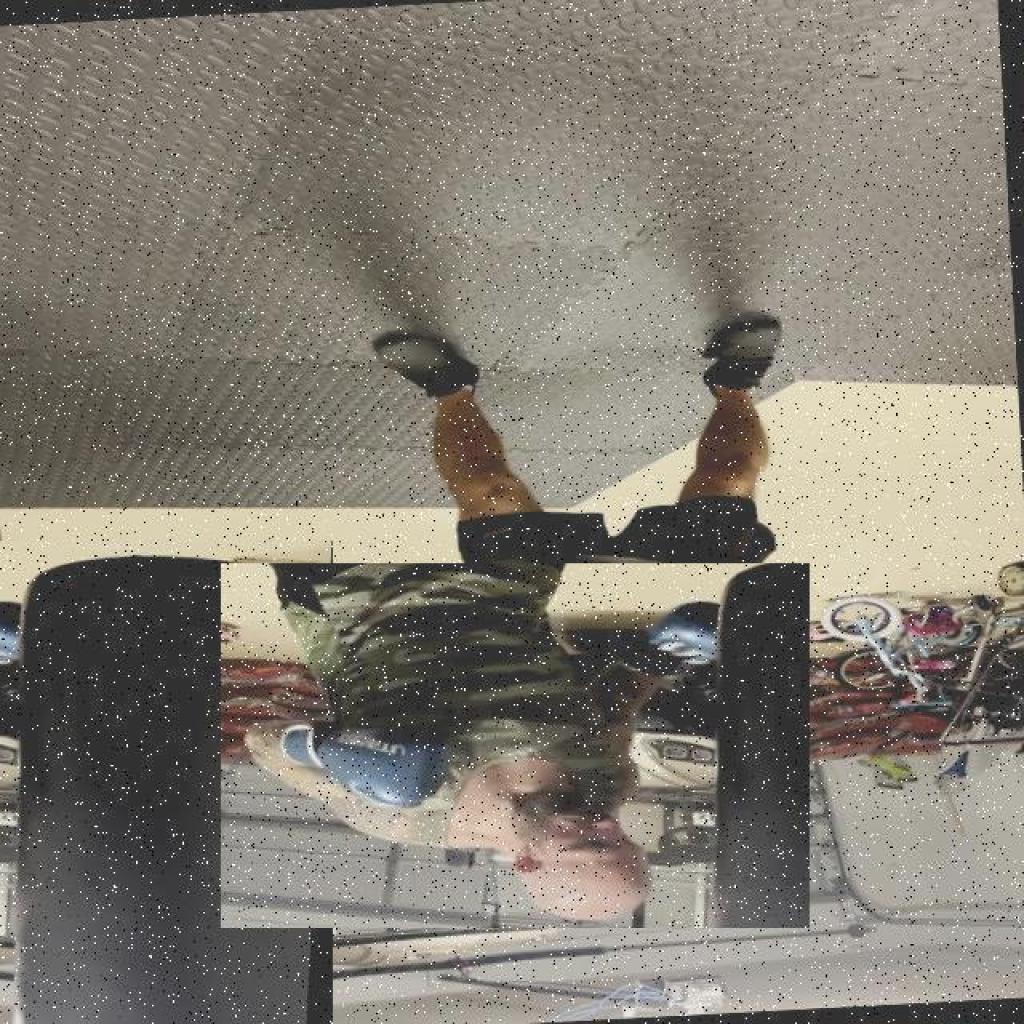bag: (0, 541, 332, 1024)
uppercut: (220, 563, 810, 927)
